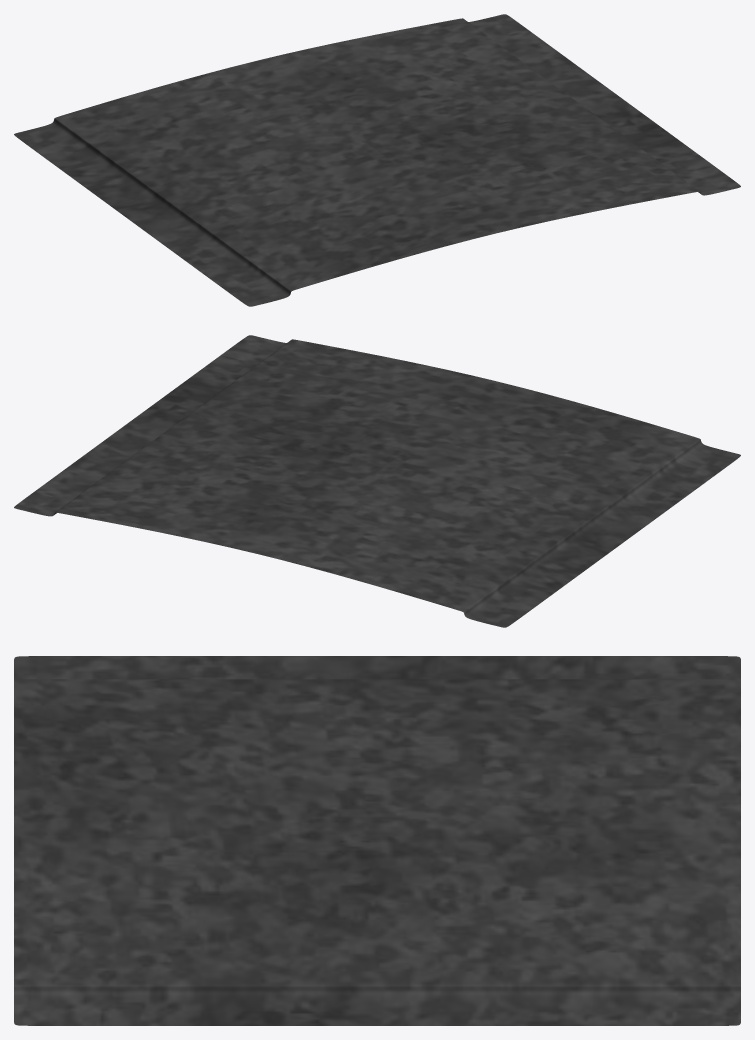
The model's file is streetAsphalt.fbx.
3 renders of one model, top to bottom at view 1: azimuth 30°, elevation 25°; view 2: azimuth 150°, elevation 25°; view 3: azimuth 270°, elevation 25°, orthographic. The views are drawn at different scales.
Visible parts, largest first — view 1: Plane; view 2: Plane; view 3: Plane.
Boxes of the visible parts, bbox=[...] form: Plane: bbox=[14, 14, 740, 306]; Plane: bbox=[14, 335, 740, 627]; Plane: bbox=[14, 656, 740, 1025].
Size of the model in its own units: 241 by 6.37 by 200.
